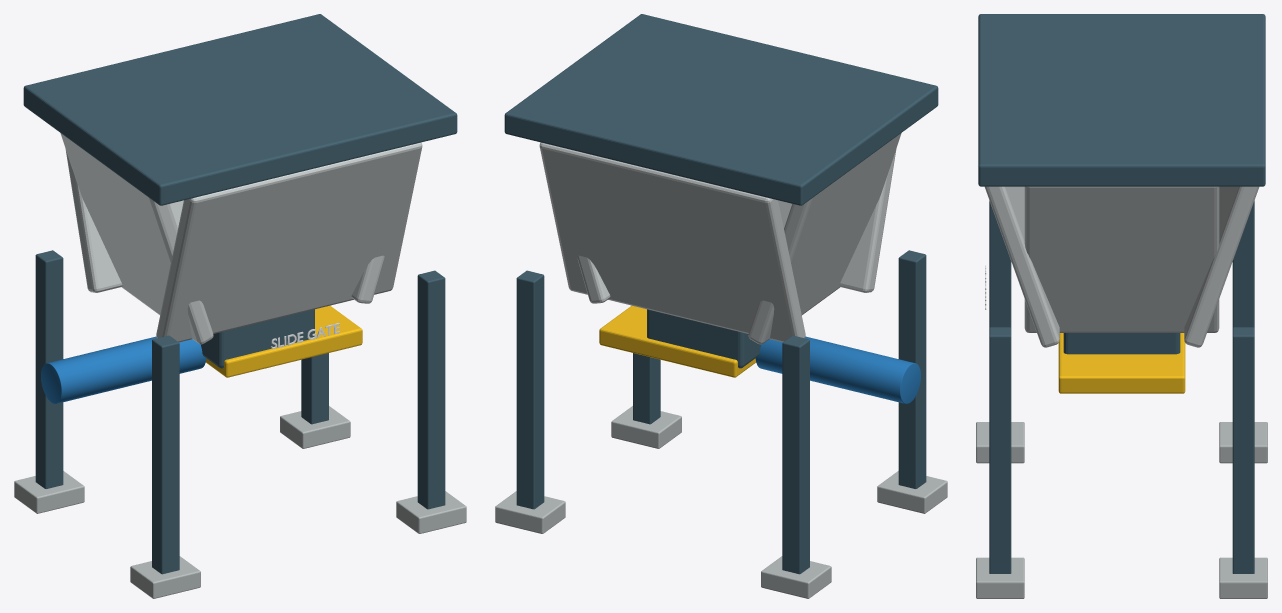
Rendered from bulk_hopper_slide_gate.glb.
The picture shows the model from 3 angles, left to right: view 1: azimuth 30°, elevation 25°; view 2: azimuth 150°, elevation 25°; view 3: azimuth 270°, elevation 25°; orthographic projection. The views are drawn at different scales.
Visible parts, largest first — view 1: TOP_FLANGE, HOPPER_SIDE_Y_-0.42, HOPPER_SIDE_X_-0.52, LEG_0.66_-0.5, LEG_-0.66_-0.5, LEG_-0.66_0.5, GATE_CYLINDER, KIN_SLIDE_GATE, THROAT, HOPPER_SIDE_Y_0.42, FOOT_-0.66_-0.5, FOOT_0.66_-0.5 (+4 smaller); view 2: TOP_FLANGE, HOPPER_SIDE_Y_0.42, HOPPER_SIDE_X_-0.52, LEG_0.66_0.5, LEG_-0.66_0.5, LEG_-0.66_-0.5, GATE_CYLINDER, KIN_SLIDE_GATE, THROAT, HOPPER_SIDE_Y_-0.42, FOOT_-0.66_0.5, FOOT_0.66_0.5 (+4 smaller); view 3: TOP_FLANGE, HOPPER_SIDE_X_0.52, LEG_0.66_0.5, LEG_0.66_-0.5, KIN_SLIDE_GATE, HOPPER_SIDE_Y_0.42, HOPPER_SIDE_Y_-0.42, THROAT, LEG_-0.66_0.5, LEG_-0.66_-0.5, FOOT_0.66_0.5, FOOT_0.66_-0.5 (+2 smaller).
Boxes of the visible parts, box(x1,y1,x2,y2) form: TOP_FLANGE: box(23, 14, 457, 205); HOPPER_SIDE_Y_-0.42: box(156, 142, 422, 342); HOPPER_SIDE_X_-0.52: box(60, 133, 213, 344); LEG_0.66_-0.5: box(417, 270, 445, 509); LEG_-0.66_-0.5: box(152, 335, 179, 574); LEG_-0.66_0.5: box(35, 250, 63, 488); GATE_CYLINDER: box(41, 336, 206, 403); KIN_SLIDE_GATE: box(205, 305, 362, 377); THROAT: box(200, 309, 314, 368); HOPPER_SIDE_Y_0.42: box(65, 149, 183, 292); FOOT_-0.66_-0.5: box(130, 556, 200, 598); FOOT_0.66_-0.5: box(396, 491, 466, 533); TOP_FLANGE: box(504, 14, 938, 205); HOPPER_SIDE_Y_0.42: box(539, 142, 805, 342); HOPPER_SIDE_X_-0.52: box(748, 133, 901, 344); LEG_0.66_0.5: box(516, 270, 544, 509); LEG_-0.66_0.5: box(782, 335, 809, 574); LEG_-0.66_-0.5: box(898, 250, 926, 488); GATE_CYLINDER: box(755, 336, 920, 403); KIN_SLIDE_GATE: box(599, 305, 756, 377); THROAT: box(647, 309, 761, 368); HOPPER_SIDE_Y_-0.42: box(778, 149, 896, 292); FOOT_-0.66_0.5: box(761, 556, 831, 598); FOOT_0.66_0.5: box(495, 491, 565, 533); TOP_FLANGE: box(978, 14, 1265, 186); HOPPER_SIDE_X_0.52: box(1024, 186, 1219, 332); LEG_0.66_0.5: box(1232, 327, 1254, 573); LEG_0.66_-0.5: box(989, 327, 1011, 573); KIN_SLIDE_GATE: box(1058, 333, 1185, 393); HOPPER_SIDE_Y_0.42: box(1184, 186, 1259, 347); HOPPER_SIDE_Y_-0.42: box(984, 186, 1059, 347); THROAT: box(1063, 333, 1180, 354); LEG_-0.66_0.5: box(1232, 201, 1254, 327); LEG_-0.66_-0.5: box(989, 201, 1011, 327); FOOT_0.66_0.5: box(1219, 557, 1267, 598); FOOT_0.66_-0.5: box(976, 557, 1024, 598).
Bounding box in the file's own units: 1.72 × 1.95 × 1.2.
